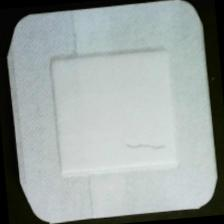Dressing: (1, 1, 224, 224)
F_Body: (122, 127, 173, 163)
